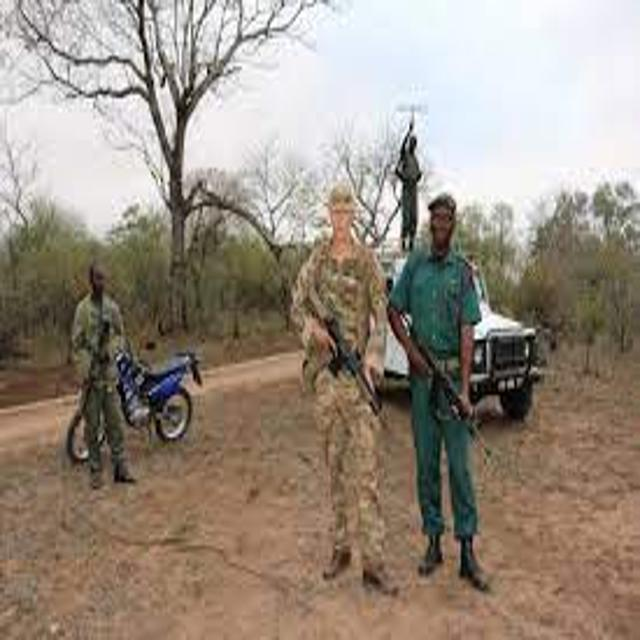gun: (363, 265, 506, 473), (281, 269, 415, 457)
motorcycle: (23, 304, 238, 501)
ranger: (325, 172, 548, 614), (262, 159, 436, 619), (37, 236, 182, 521), (356, 86, 469, 275)
